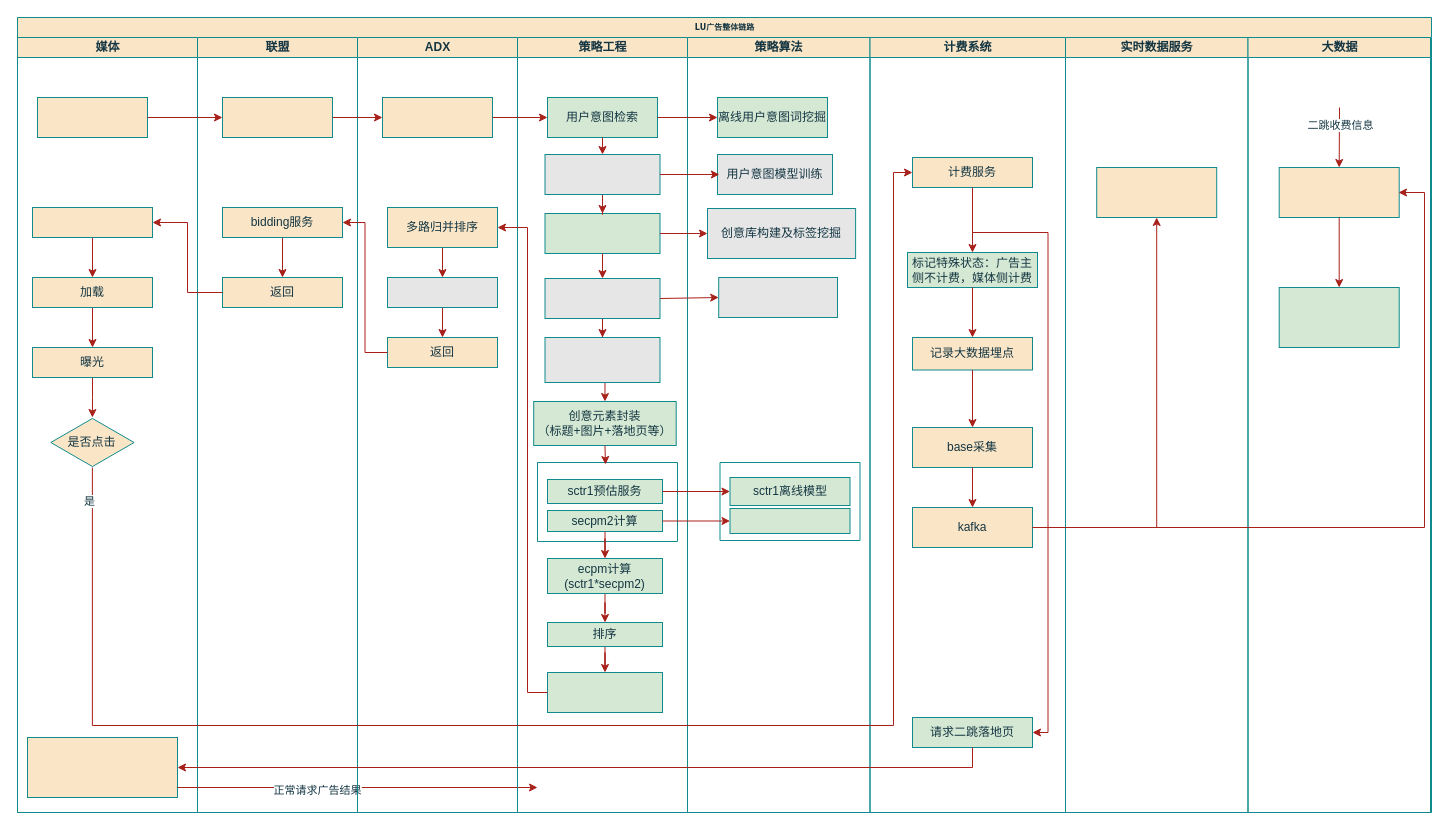
Image size: 1450x830. Some labels were removed from this diagram. The shapes that lost their labels are listed below. From the top down, each one's centre as x and y in pixels, then its label:
point 92,117: 请求广告
point 277,117: 检验请求
point 437,117: 请求下发
point 602,174: 用户意图优选
point 1156,192: flink实时数据统计
point 1338,192: 大数据hive表
point 92,222: 竞价
point 602,233: 创意检索
point 442,292: LU广告胜出时，记录第二名ecpm数据
point 602,298: 创意召回优选
point 778,297: 创意召回模型
point 1338,317: LU广告报表
point 602,359: 业务过滤器 （媒体保护等）
point 789,521: sctr2离线模型
point 604,692: 业务处理 （计费串封装）
point 102,767: 二跳媒体 （商店服务端/H5聚合页）
